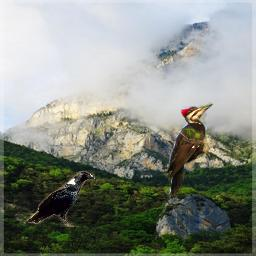Crow: (25, 171, 95, 227)
Woodpecker: (165, 102, 216, 198)
